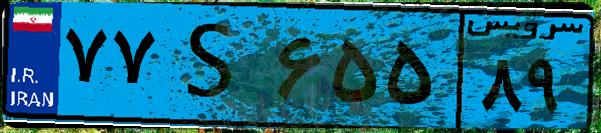5: (385, 28, 445, 110), (330, 28, 385, 110)
6: (270, 28, 330, 110)
7: (57, 26, 110, 100), (110, 28, 158, 98)
8: (475, 38, 525, 113)
9: (525, 38, 570, 115)
S: (158, 12, 270, 120)
